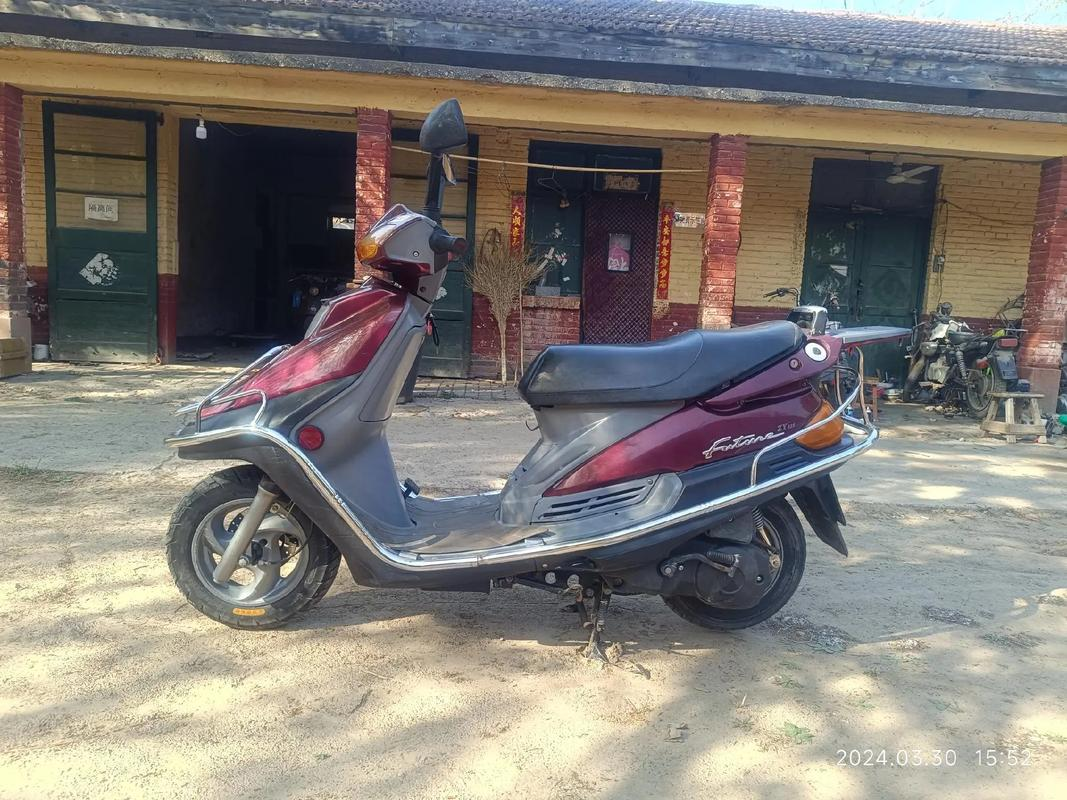摩托车: (139, 93, 884, 659)
